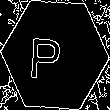P_N: (37, 29, 73, 81)
